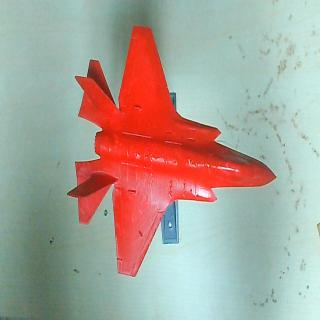Jet: (66, 24, 275, 278)
